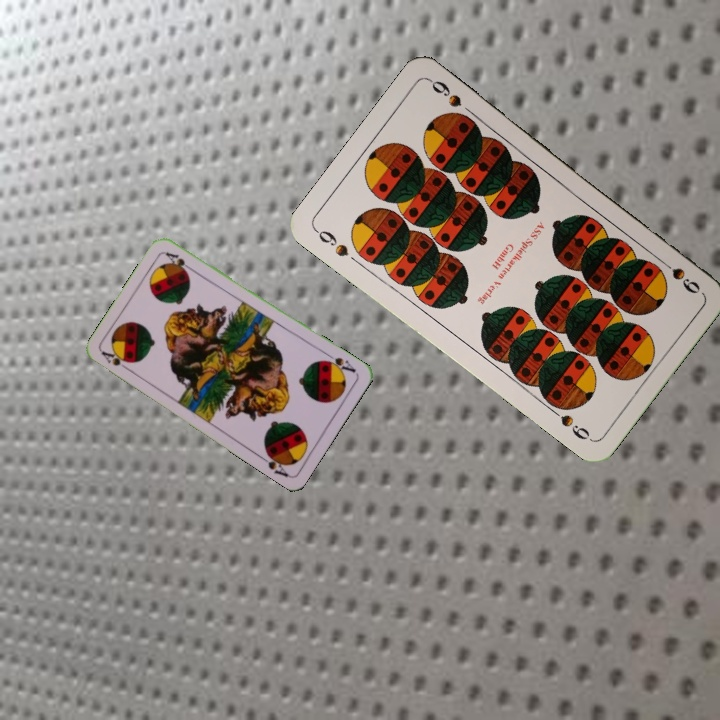S9: (653, 253, 703, 297), (311, 225, 352, 260)
SA: (319, 349, 358, 376), (98, 347, 134, 375)
